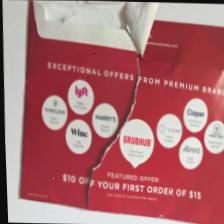paper: (11, 2, 224, 224)
